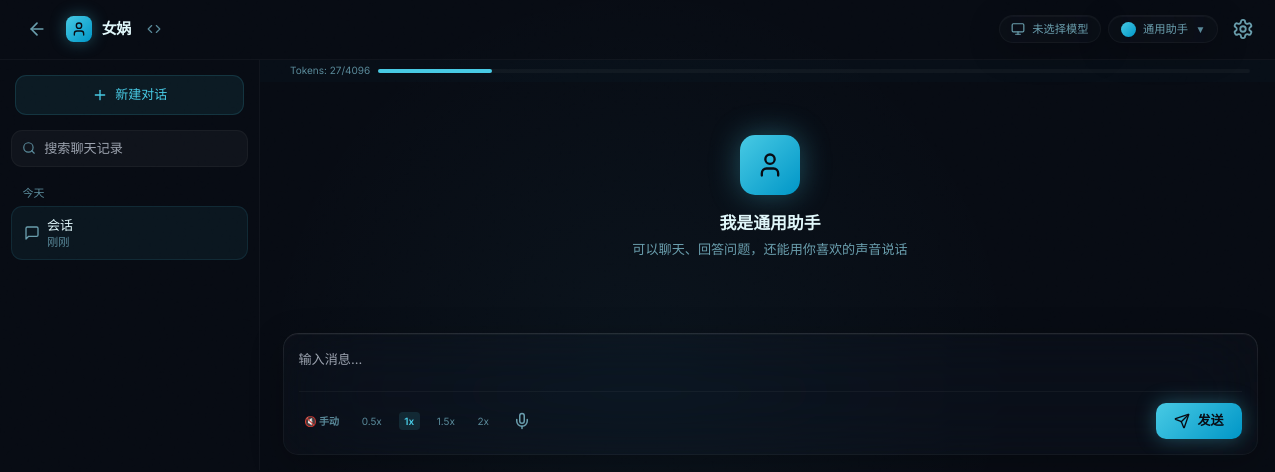
斜杠激活与过滤 (Req 4.1, 4.2) › 输入 "/" 显示菜单，含 5 条内置命令 + 预设命令
The width and height of the screenshot is (1275, 472).
Type "/" into the text box with placeholder "输入消息...".
click(770, 361); type("/")  # box [298,349,1242,373]
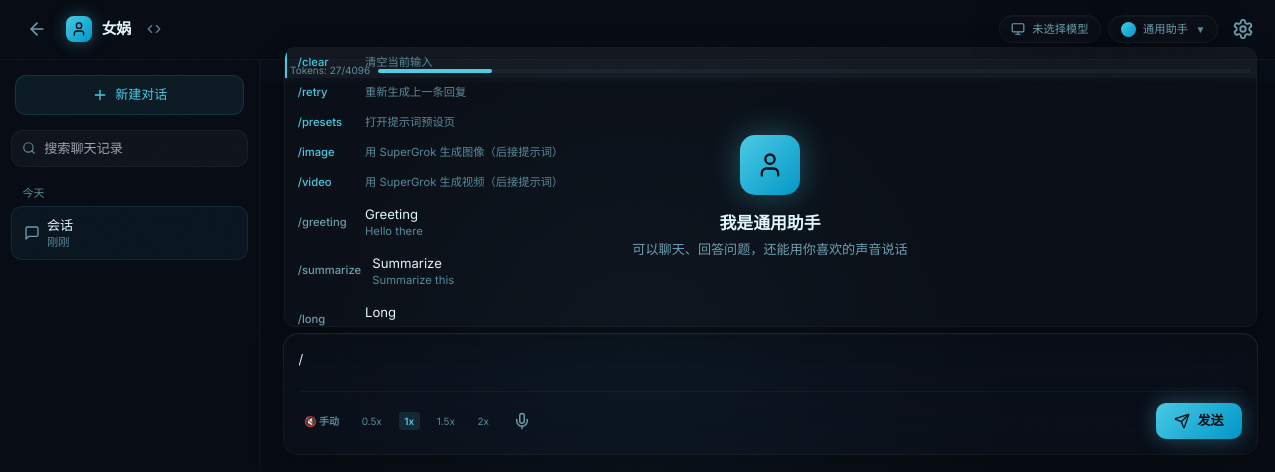
Expected: the list with test id "slash-command-menu" is shown, [284,47,1256,327]
Expected: the option with test id "slash-command-item-7" is shown, [284,295,1256,327]
